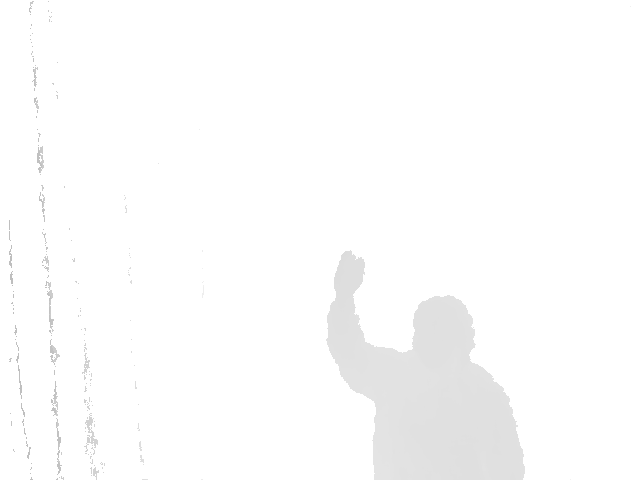hand: (331, 250, 366, 299)
head: (410, 295, 475, 363)
person: (327, 248, 525, 480)
